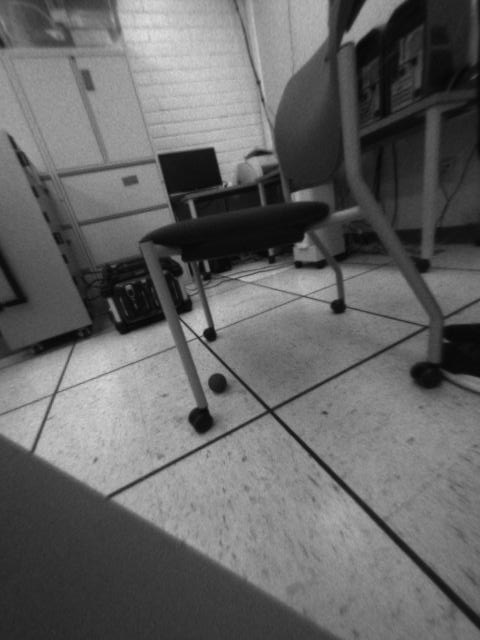dogtoy: (203, 367, 235, 396)
